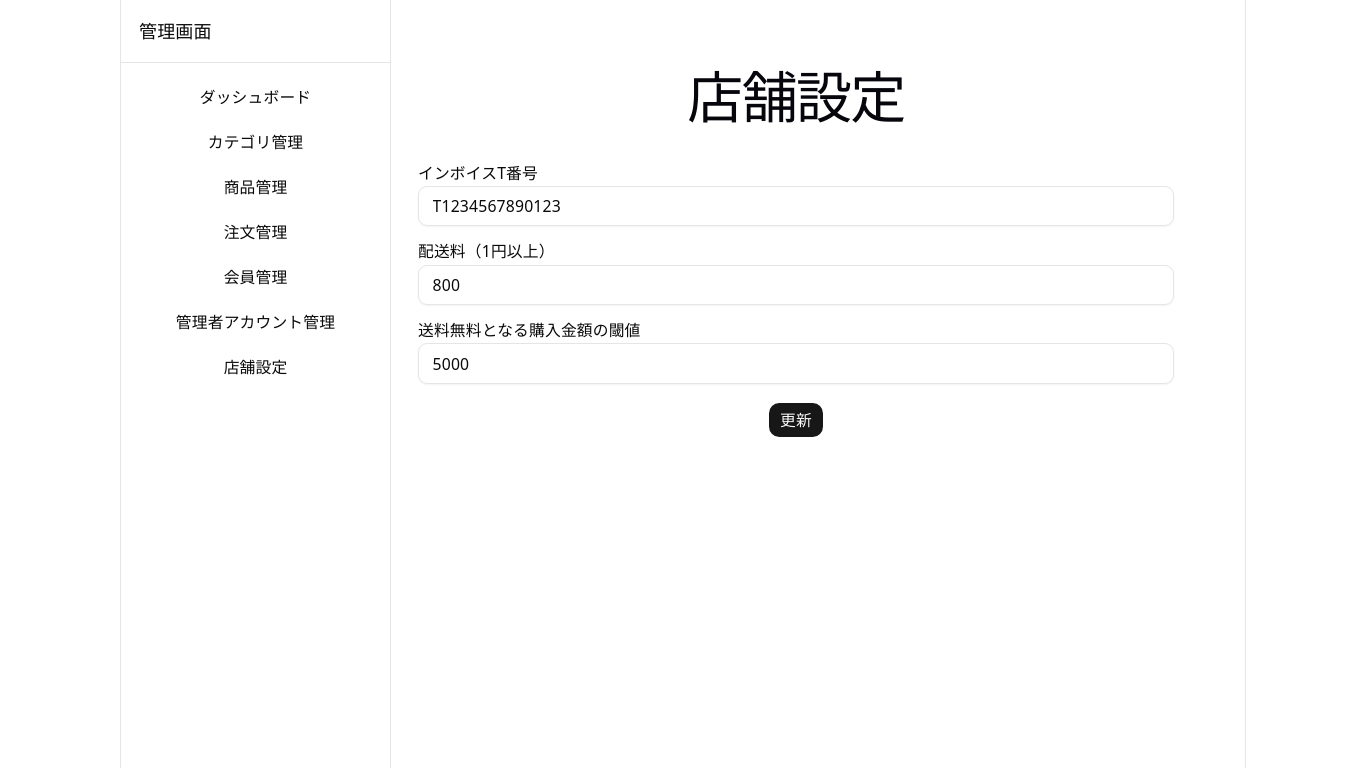
Scenario: AdminStoreSettingsPage › 配送料に0を入力すると、バリデーションエラーを表示すること
This screenshot has width=1366, height=768.
Replace the text in the number field labelled "配送料（1円以上）" with "0": [796, 285] box [418,265,1174,305]
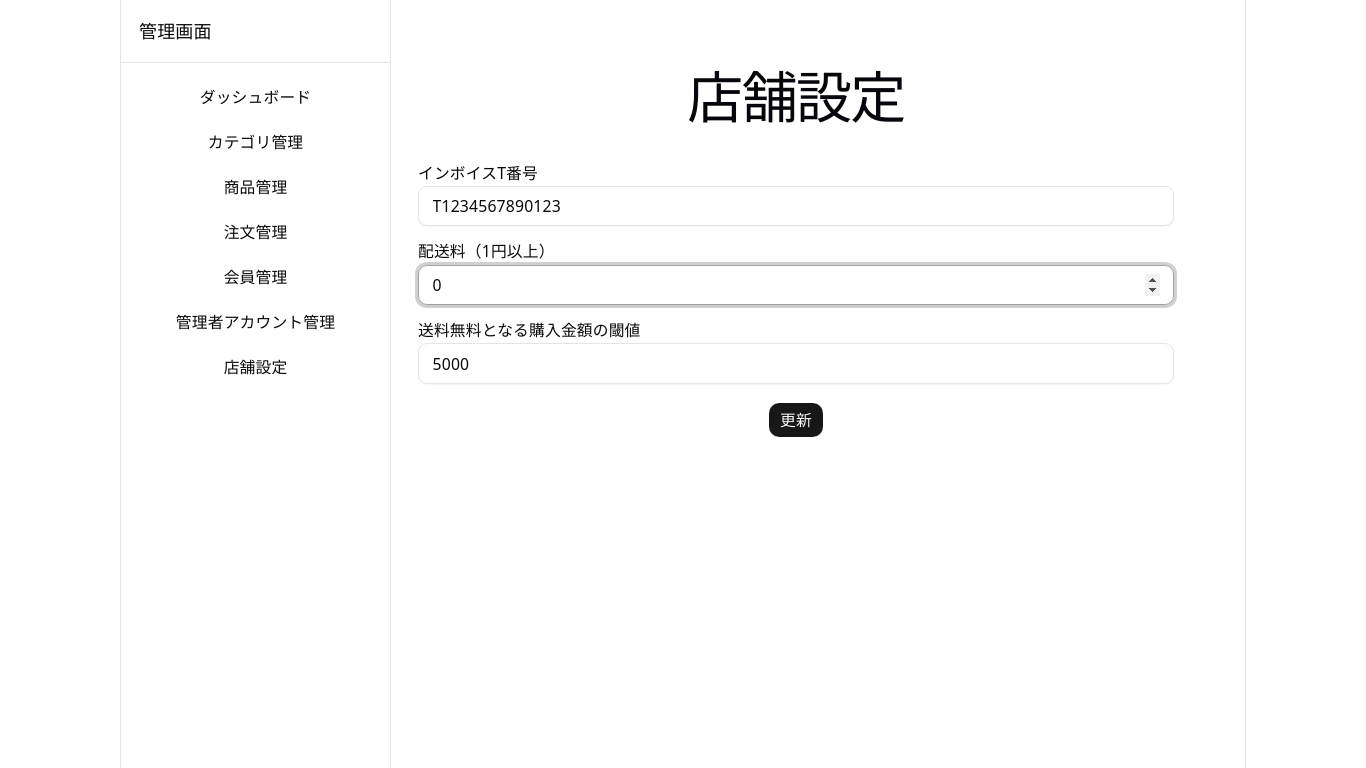
Click the button "更新": [796, 420] box [768,402,824,438]
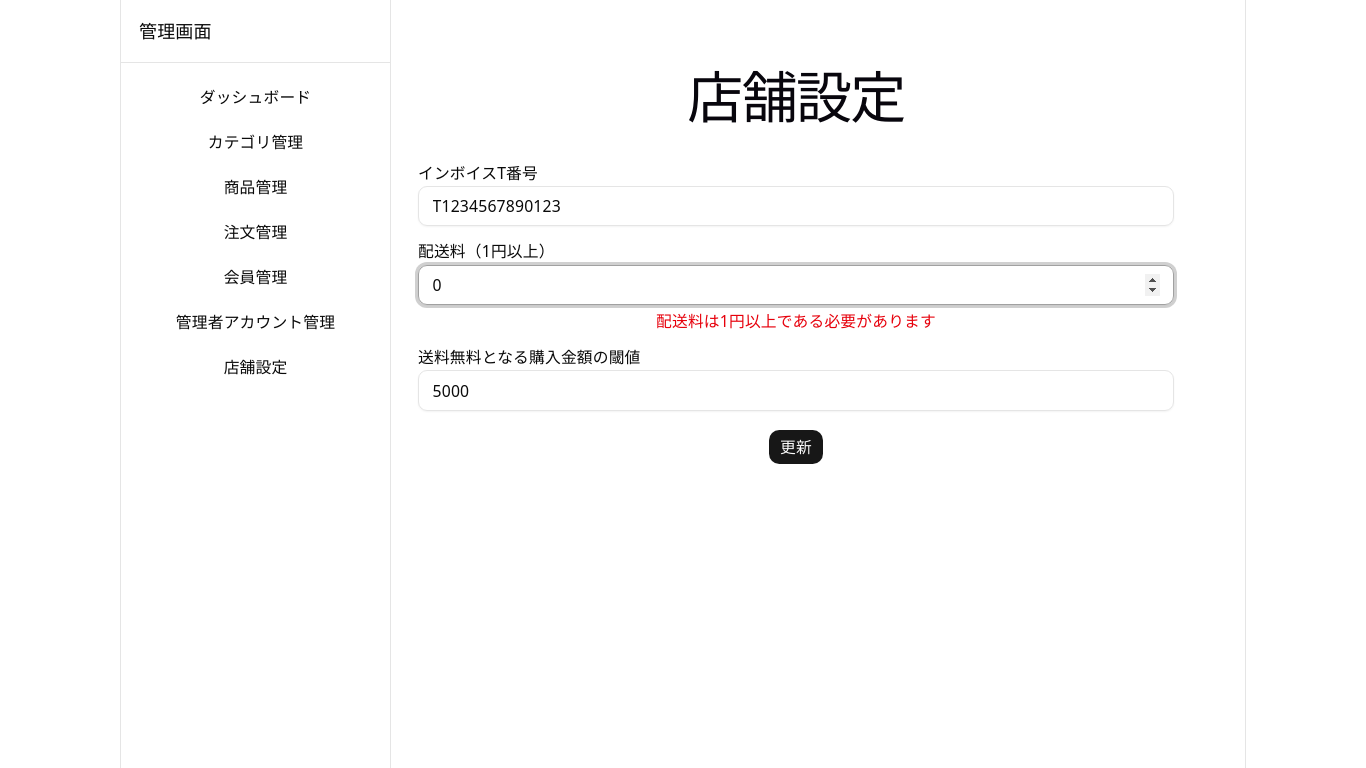
Now the text "配送料は1円以上である必要があります" is shown, box [656,310,936,332]
